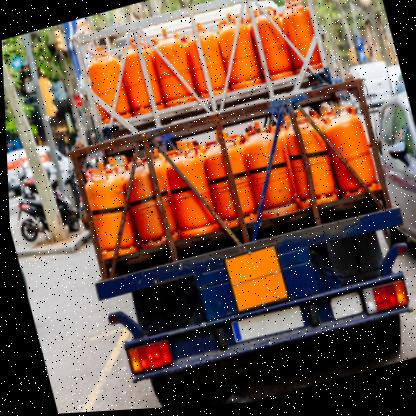gas-tank: (108, 147, 184, 266), (315, 100, 386, 216), (236, 123, 304, 243), (69, 163, 141, 276), (155, 142, 222, 261), (193, 133, 264, 244), (275, 113, 343, 227), (109, 26, 171, 130), (141, 22, 204, 123), (175, 12, 235, 117), (75, 39, 138, 138), (241, 3, 301, 97), (206, 11, 264, 104), (271, 0, 332, 81)
